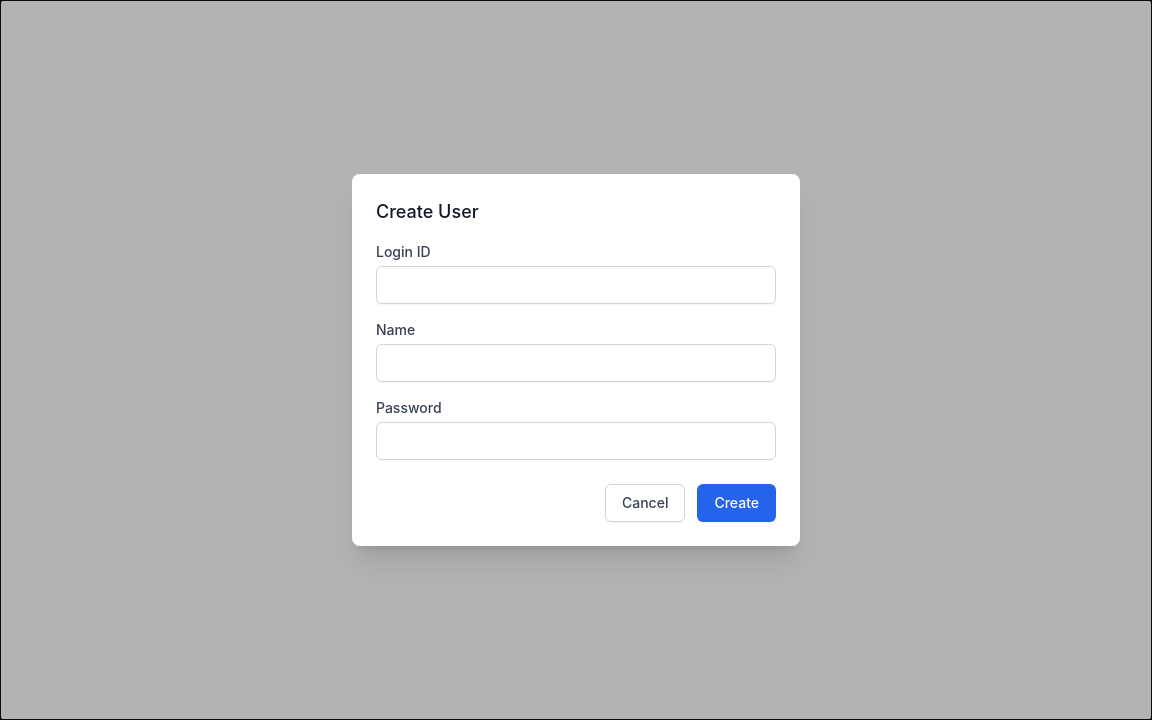
Test: CreateUserDialog Component › handles API error response
# Fill in the form
Type "testuser" into the field labelled "Login ID".
click(576, 285); type("testuser")  # box x1=376 y1=266 x2=776 y2=304
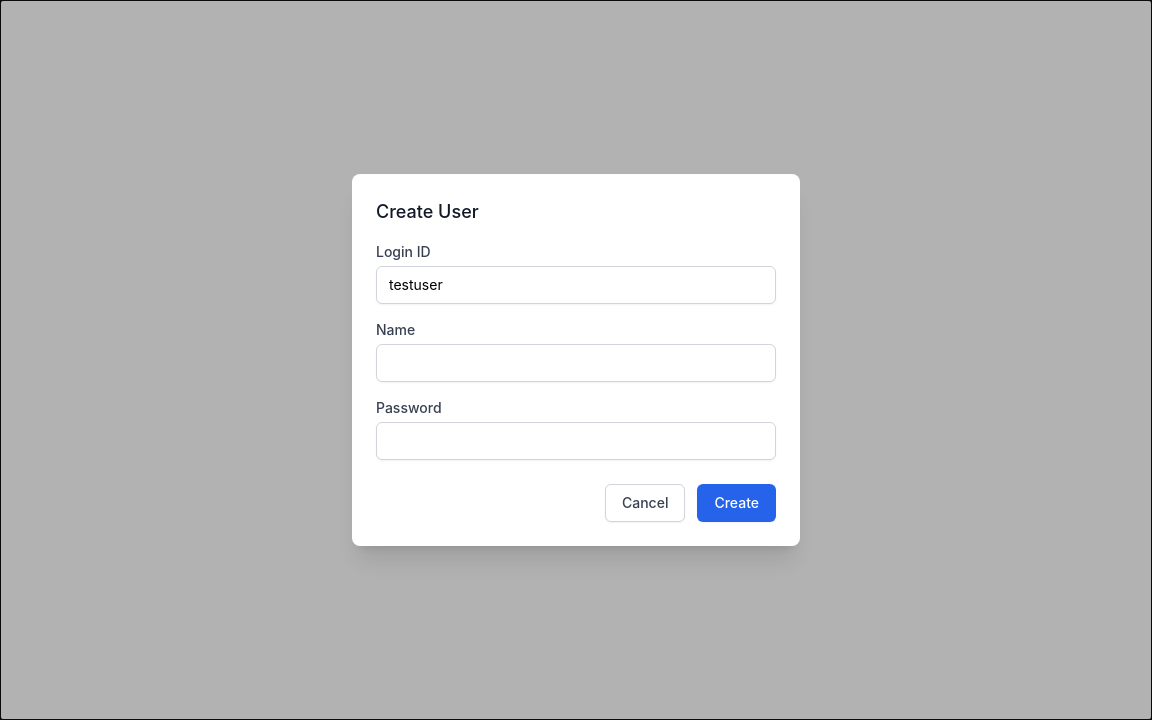
Type "Test User" into the field labelled "Name".
click(576, 363); type("Test User")  # box x1=376 y1=344 x2=776 y2=382
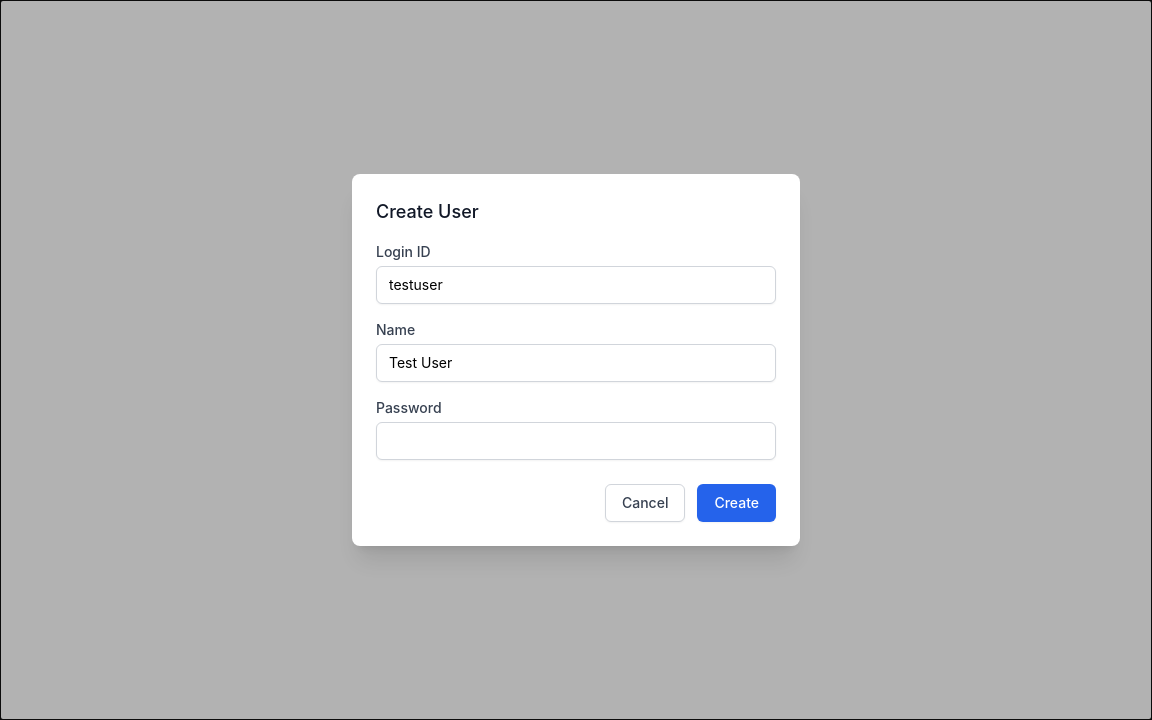
Type "password123" into the password field labelled "Password".
click(576, 441); type("password123")  # box x1=376 y1=422 x2=776 y2=460
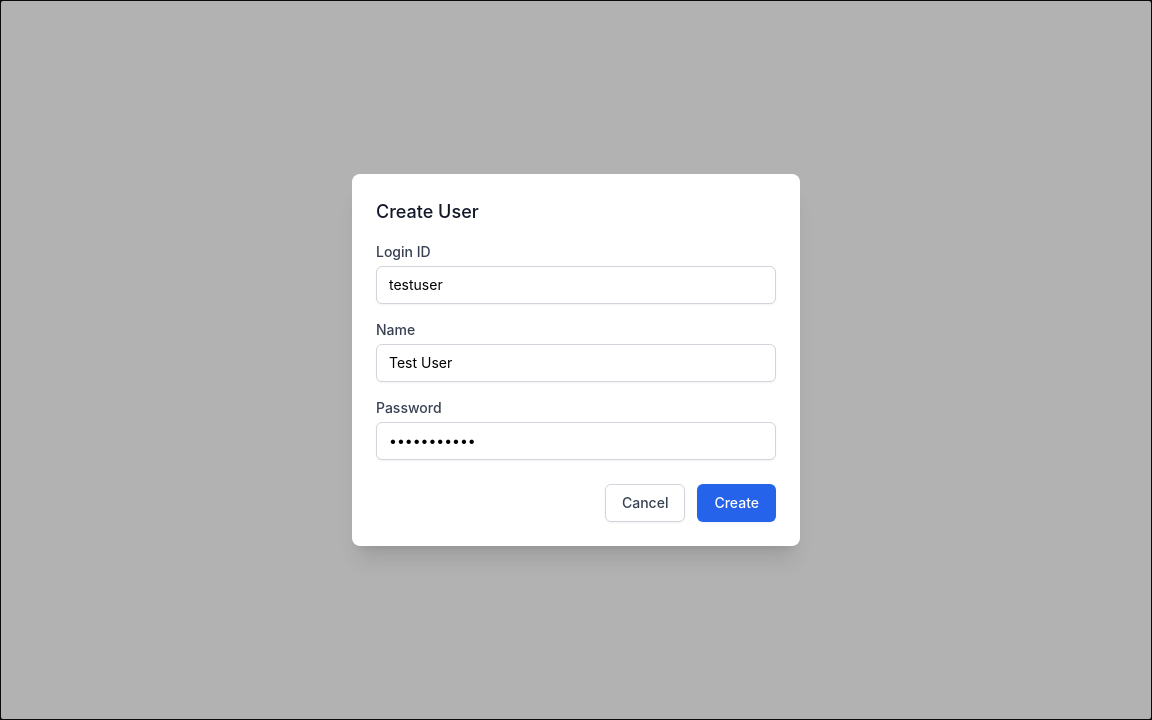
# Submit the form
Click the button "Create".
click(737, 503)  # box x1=697 y1=484 x2=776 y2=522
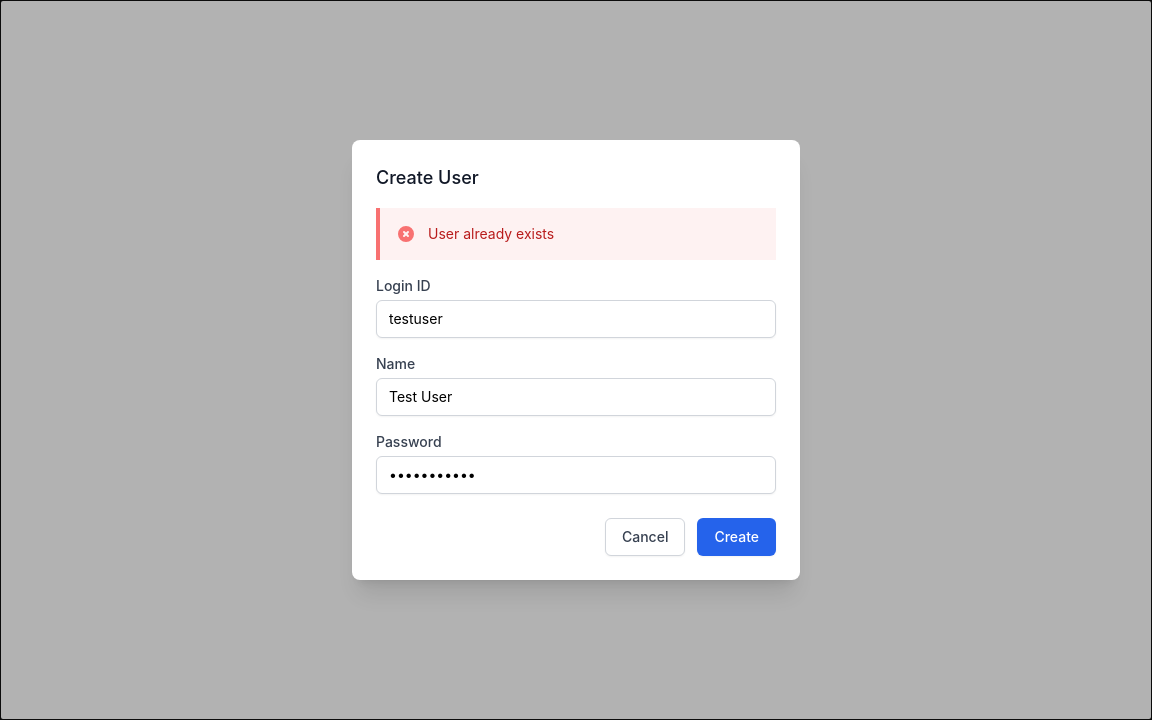
Check: the text "User already exists" is shown, box x1=428 y1=224 x2=554 y2=244
